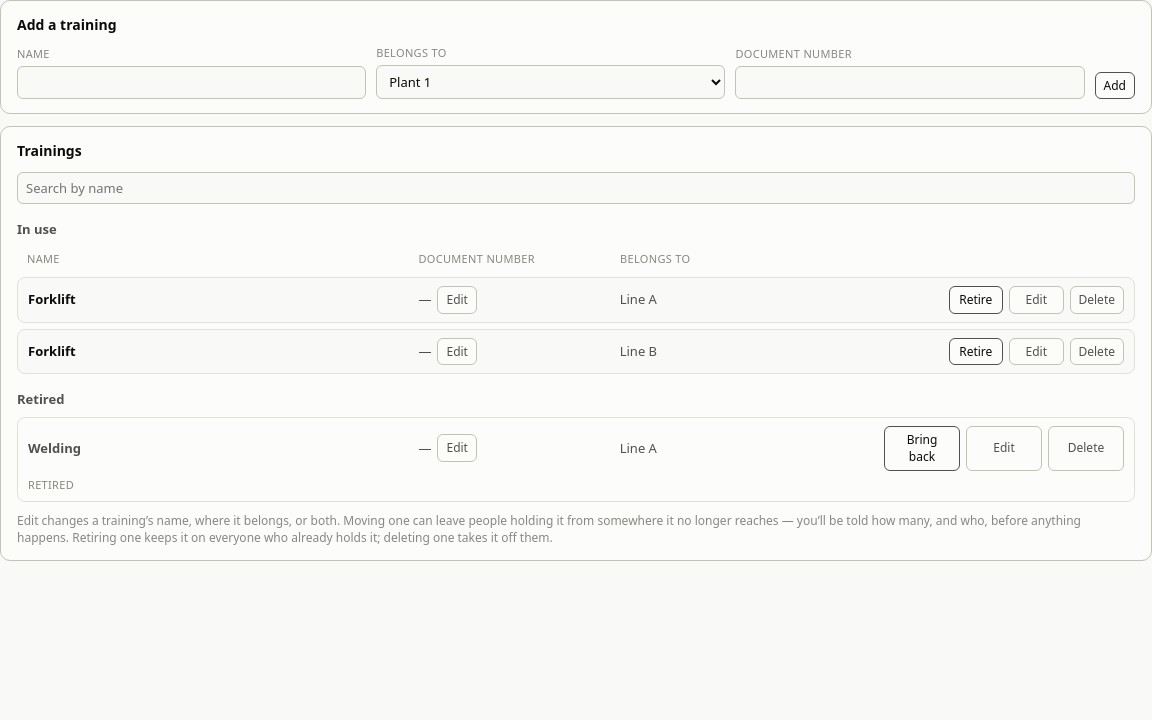
TrainingsPanel — create and rename › T14 ⭐ a clash under THIS owner blocks the create and points at the existing row
Select "Line A" in the dropdown labelled "Belongs to". click: (551, 82)
box: left=376, top=65, right=725, bottom=99
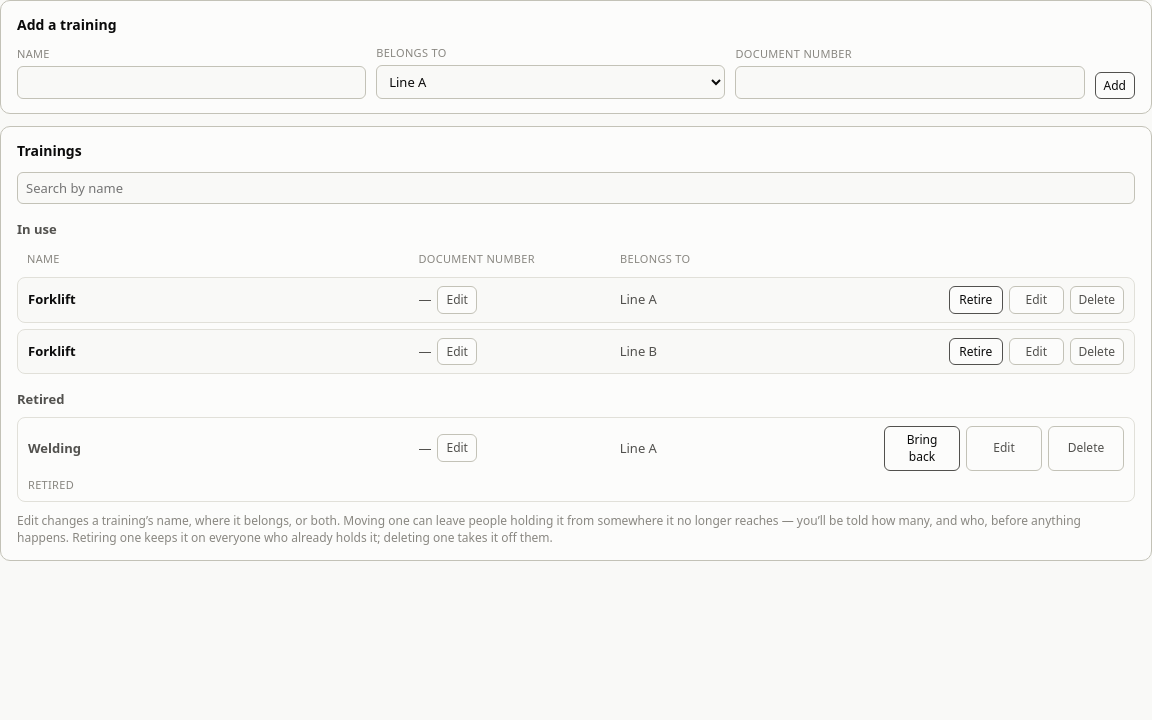
Type "Forklift" into the field labelled "Name". click: (192, 83)
box: left=17, top=66, right=366, bottom=99
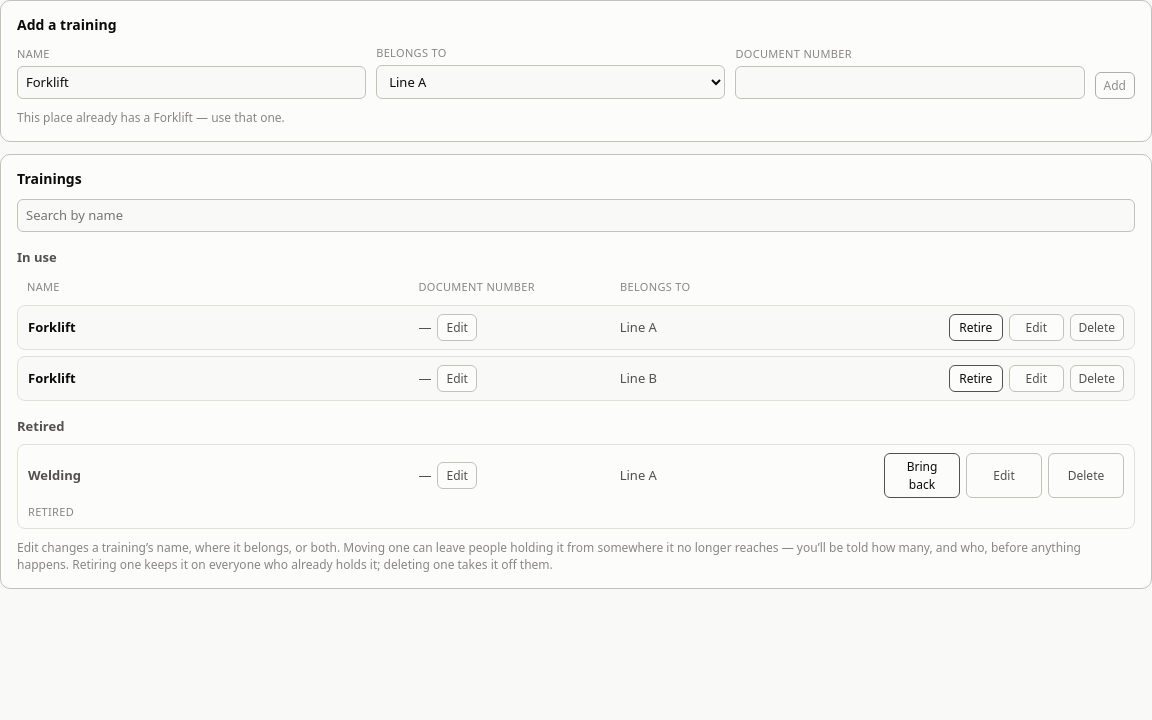
Now the text "This place already has a Forklift — use that one." is shown, box left=17, top=109, right=285, bottom=126
Now the button "Add" is disabled, box left=1095, top=72, right=1135, bottom=99
